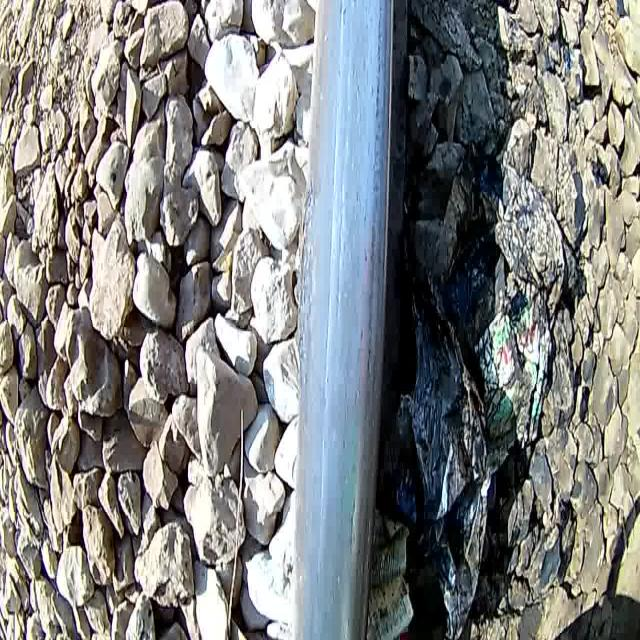Cracks: (348, 491, 357, 566)
Grooves: (322, 0, 346, 415)
Shellings: (369, 0, 394, 287), (354, 487, 374, 640), (362, 286, 382, 433)
